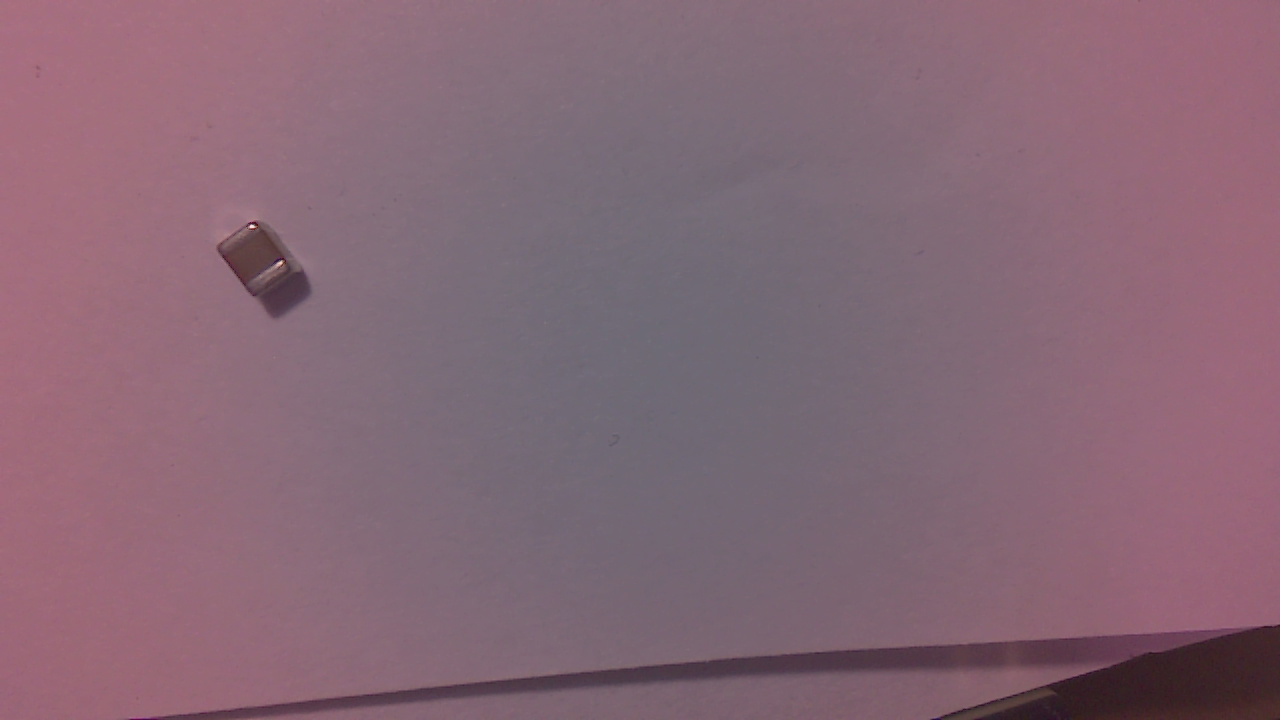Condensator: (222, 227, 305, 310)
